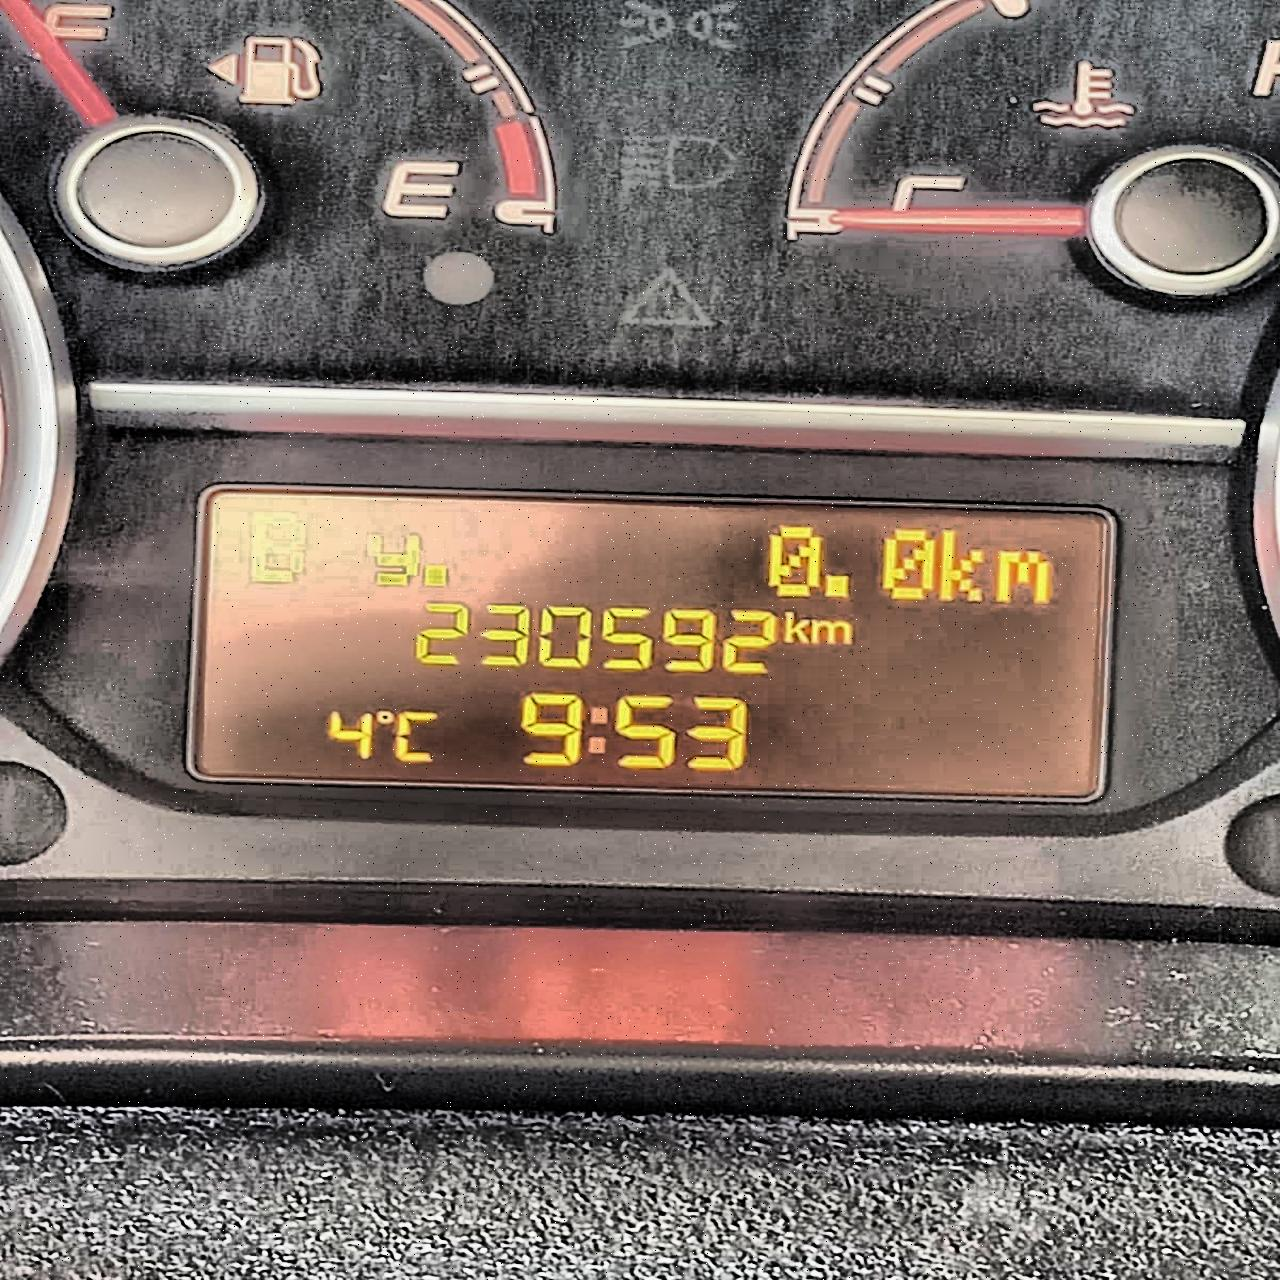-: (420, 561, 450, 588), (822, 572, 851, 598)
0: (878, 526, 938, 602), (536, 604, 593, 670)
2: (413, 601, 471, 668), (720, 608, 778, 675)
3: (685, 694, 750, 772), (474, 602, 531, 667)
4: (327, 707, 374, 762)
5: (614, 694, 680, 769), (597, 604, 654, 670)
9: (517, 689, 586, 768), (661, 606, 716, 674)
X: (240, 510, 312, 584), (764, 524, 824, 599), (939, 527, 986, 602), (995, 549, 1053, 605), (362, 531, 421, 586), (393, 709, 442, 767), (586, 704, 612, 757), (809, 617, 856, 645), (782, 611, 811, 644)
odometer: (175, 479, 1121, 806)
